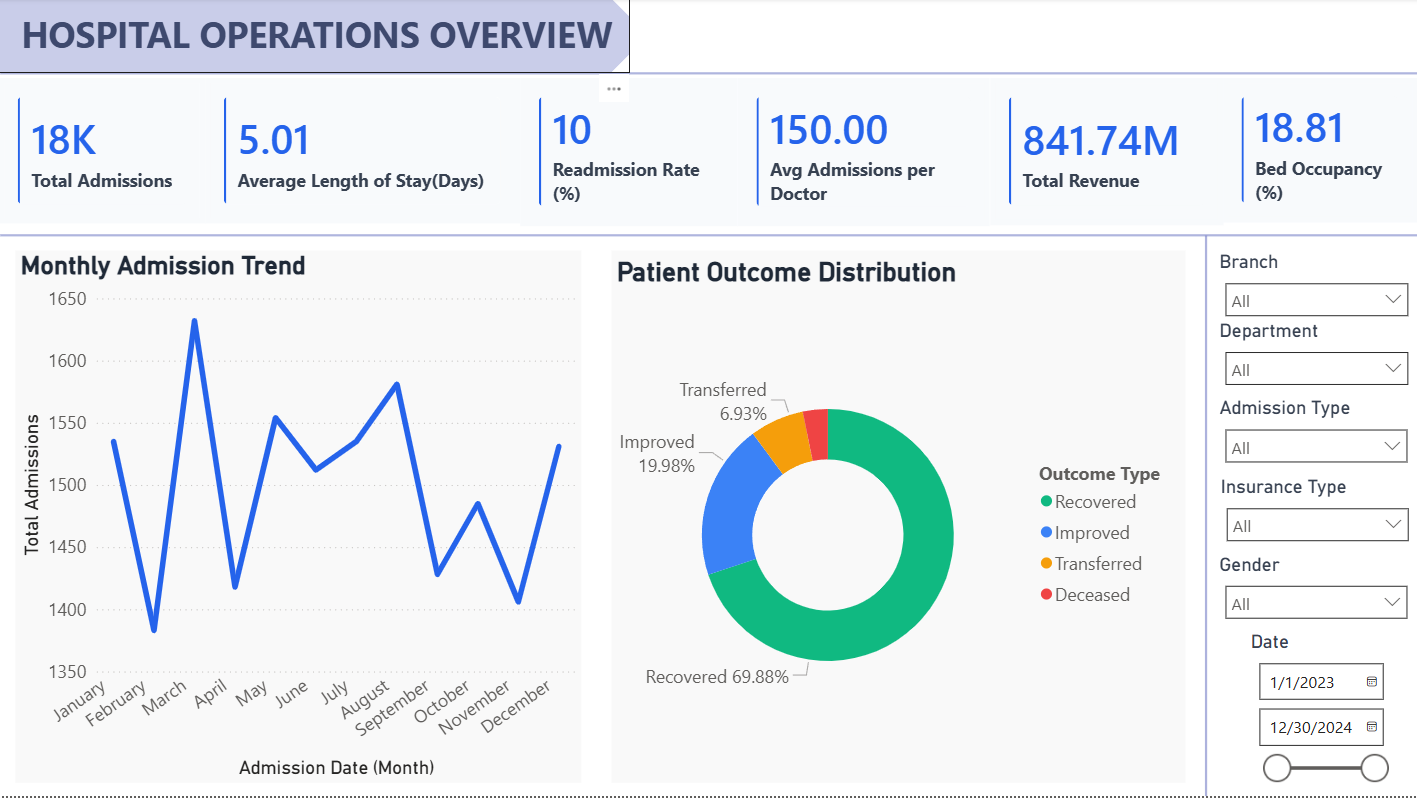

What the dashboard file says about the page in this screenshot:
{"tool":"powerbi","page":{"name":"Page 1","canvas":[1280,720],"ordinal":0},"visuals":[{"type":"cardVisual","title":"Avg Length of stay(Days)","fields":{"Data":["hospital_db fact_admission.ALOS (Days)"]},"box":[186.2,72.5,283.8,131.2],"z":0},{"type":"cardVisual","fields":{"Data":["hospital_db fact_admission.Avg Admissions per Doctor"]},"box":[666.2,72.5,227.5,133.8],"z":1000},{"type":"cardVisual","title":"Total Admissions","fields":{"Data":["hospital_db fact_admission.Total Admissions"]},"box":[0,72.5,186.2,131.2],"z":2000},{"type":"cardVisual","fields":{"Data":["hospital_db fact_bed_occupancy.Bed Occupancy (%)"]},"box":[1103.8,72.5,176.2,130],"z":3000},{"type":"cardVisual","fields":{"Data":["hospital_db fact_billing.Total Revenue"]},"box":[893.8,72.5,210,132.5],"z":4000},{"type":"cardVisual","fields":{"Data":["hospital_db fact_outcome.Readmission Rate (%)"]},"box":[470,72.5,196.2,133.8],"z":5000},{"type":"lineChart","title":"Monthly Admission Trend","fields":{"Y":["hospital_db fact_admission.Total Admissions"],"Category":["hospital_db fact_admission.admission_time.Variation.Date Hierarchy.Month"]},"box":[15,227.5,510,480],"z":6000},{"type":"donutChart","title":"Patient Outcome Distribution","fields":{"Category":["hospital_db fact_outcome.outcome_type"],"Y":["CountNonNull(hospital_db fact_outcome.admission_id)"]},"box":[552.5,227.5,517.5,480],"z":7000},{"type":"textbox","box":[0,0,1280,58.8],"z":8000},{"type":"slicer","title":"Branch","fields":{"Values":["hospital_db dim_branch.branch_name"]},"box":[1095,227.5,185,62.5],"z":9000},{"type":"slicer","title":"Department","fields":{"Values":["hospital_db dim_department.department_name"]},"box":[1095,290,185,70],"z":10000},{"type":"slicer","title":"Admission Type","fields":{"Values":["hospital_db fact_admission.admission_type"]},"box":[1095.4,360,184,70],"z":11000},{"type":"slicer","title":"Insurance Type","fields":{"Values":["hospital_db dim_patient.insurance_type"]},"box":[1096.2,430,184,70],"z":12000},{"type":"slicer","title":"Gender","fields":{"Values":["hospital_db dim_patient.gender"]},"box":[1095.4,500,184,70],"z":13000},{"type":"slicer","title":"Date","fields":{"Values":["hospital_db fact_admission.admission_time"]},"box":[1123.8,570,137.5,143.8],"z":14000},{"type":"shape","box":[1.2,30,1278.8,75],"z":15000},{"type":"shape","box":[1.2,187.5,1278.8,53.8],"z":16000},{"type":"shape","box":[1070,213.8,37.5,506.2],"z":17000},{"type":"shape","box":[0,0,568.8,67.5],"z":18000}]}

Visuals, with their boxes in screenshot pixels (x1, y1, x2, y2), scaled from the page's 1280x720 canvas onto the 1417x799 screenshot:
"Avg Length of stay(Days)" cardVisual: 206,80,520,226
cardVisual - hospital_db fact_admission.Avg Admissions per Doctor: 738,80,989,229
"Total Admissions" cardVisual: 0,80,206,226
cardVisual - hospital_db fact_bed_occupancy.Bed Occupancy (%): 1222,80,1416,225
cardVisual - hospital_db fact_billing.Total Revenue: 989,80,1222,227
cardVisual - hospital_db fact_outcome.Readmission Rate (%): 520,80,738,229
"Monthly Admission Trend" lineChart: 17,252,581,785
"Patient Outcome Distribution" donutChart: 612,252,1185,785
textbox: 0,0,1416,65
"Branch" slicer: 1212,252,1416,322
"Department" slicer: 1212,322,1416,400
"Admission Type" slicer: 1213,400,1416,477
"Insurance Type" slicer: 1214,477,1416,555
"Gender" slicer: 1213,555,1416,633
"Date" slicer: 1244,633,1396,792
shape: 1,33,1416,117
shape: 1,208,1416,268
shape: 1185,237,1226,798
shape: 0,0,630,75
